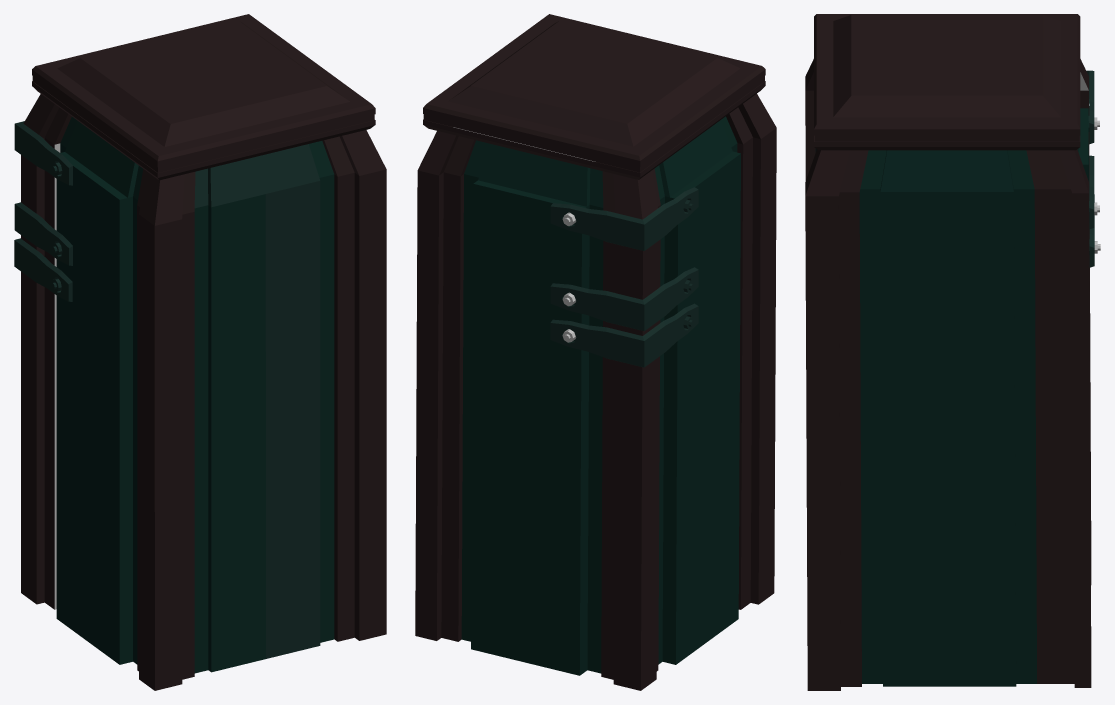
The model's file is 02_Box_Structure_M.fbx.
3 renders of one model, left to right at view 1: azimuth 30°, elevation 25°; view 2: azimuth 150°, elevation 25°; view 3: azimuth 270°, elevation 25°, orthographic. The views are drawn at different scales.
Visible parts, largest first — view 1: box1; view 2: box1; view 3: box1.
Part boxes in pixels (x1=…): box1: x1=14, y1=14, x2=386, y2=690; box1: x1=415, y1=14, x2=776, y2=690; box1: x1=805, y1=14, x2=1100, y2=690.
Bounding box in the file's own units: 1.18 × 2.54 × 1.18.
